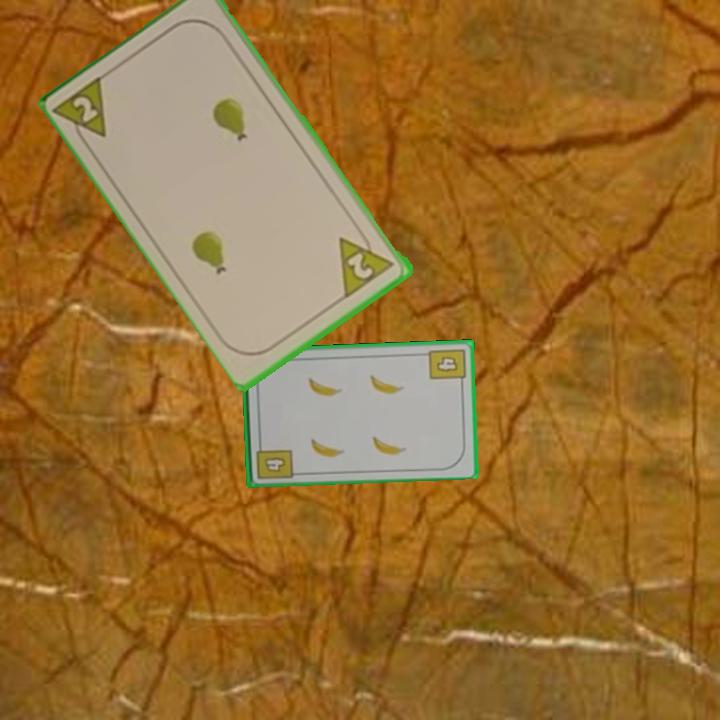2p: (52, 71, 111, 153), (335, 224, 398, 300)
4b: (252, 438, 295, 482), (425, 345, 468, 388)
